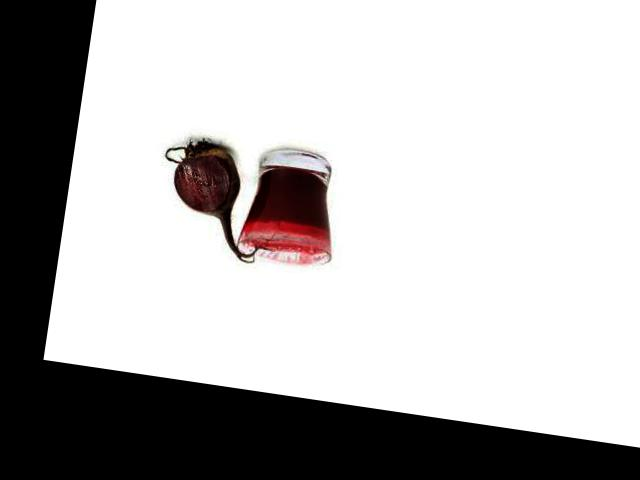beet: (152, 134, 284, 266)
